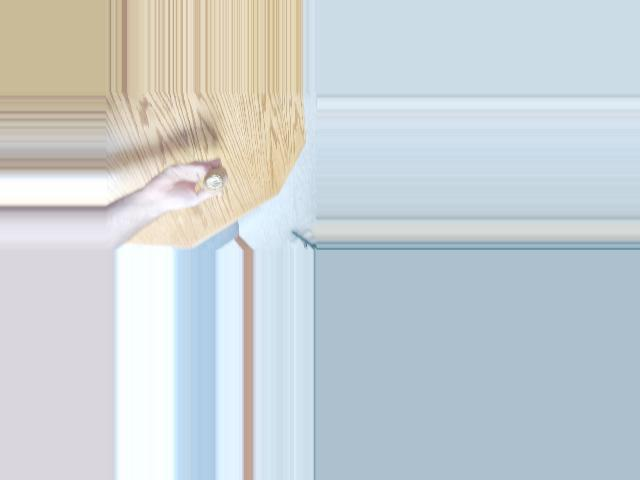sweet_potato: (204, 172, 232, 195)
